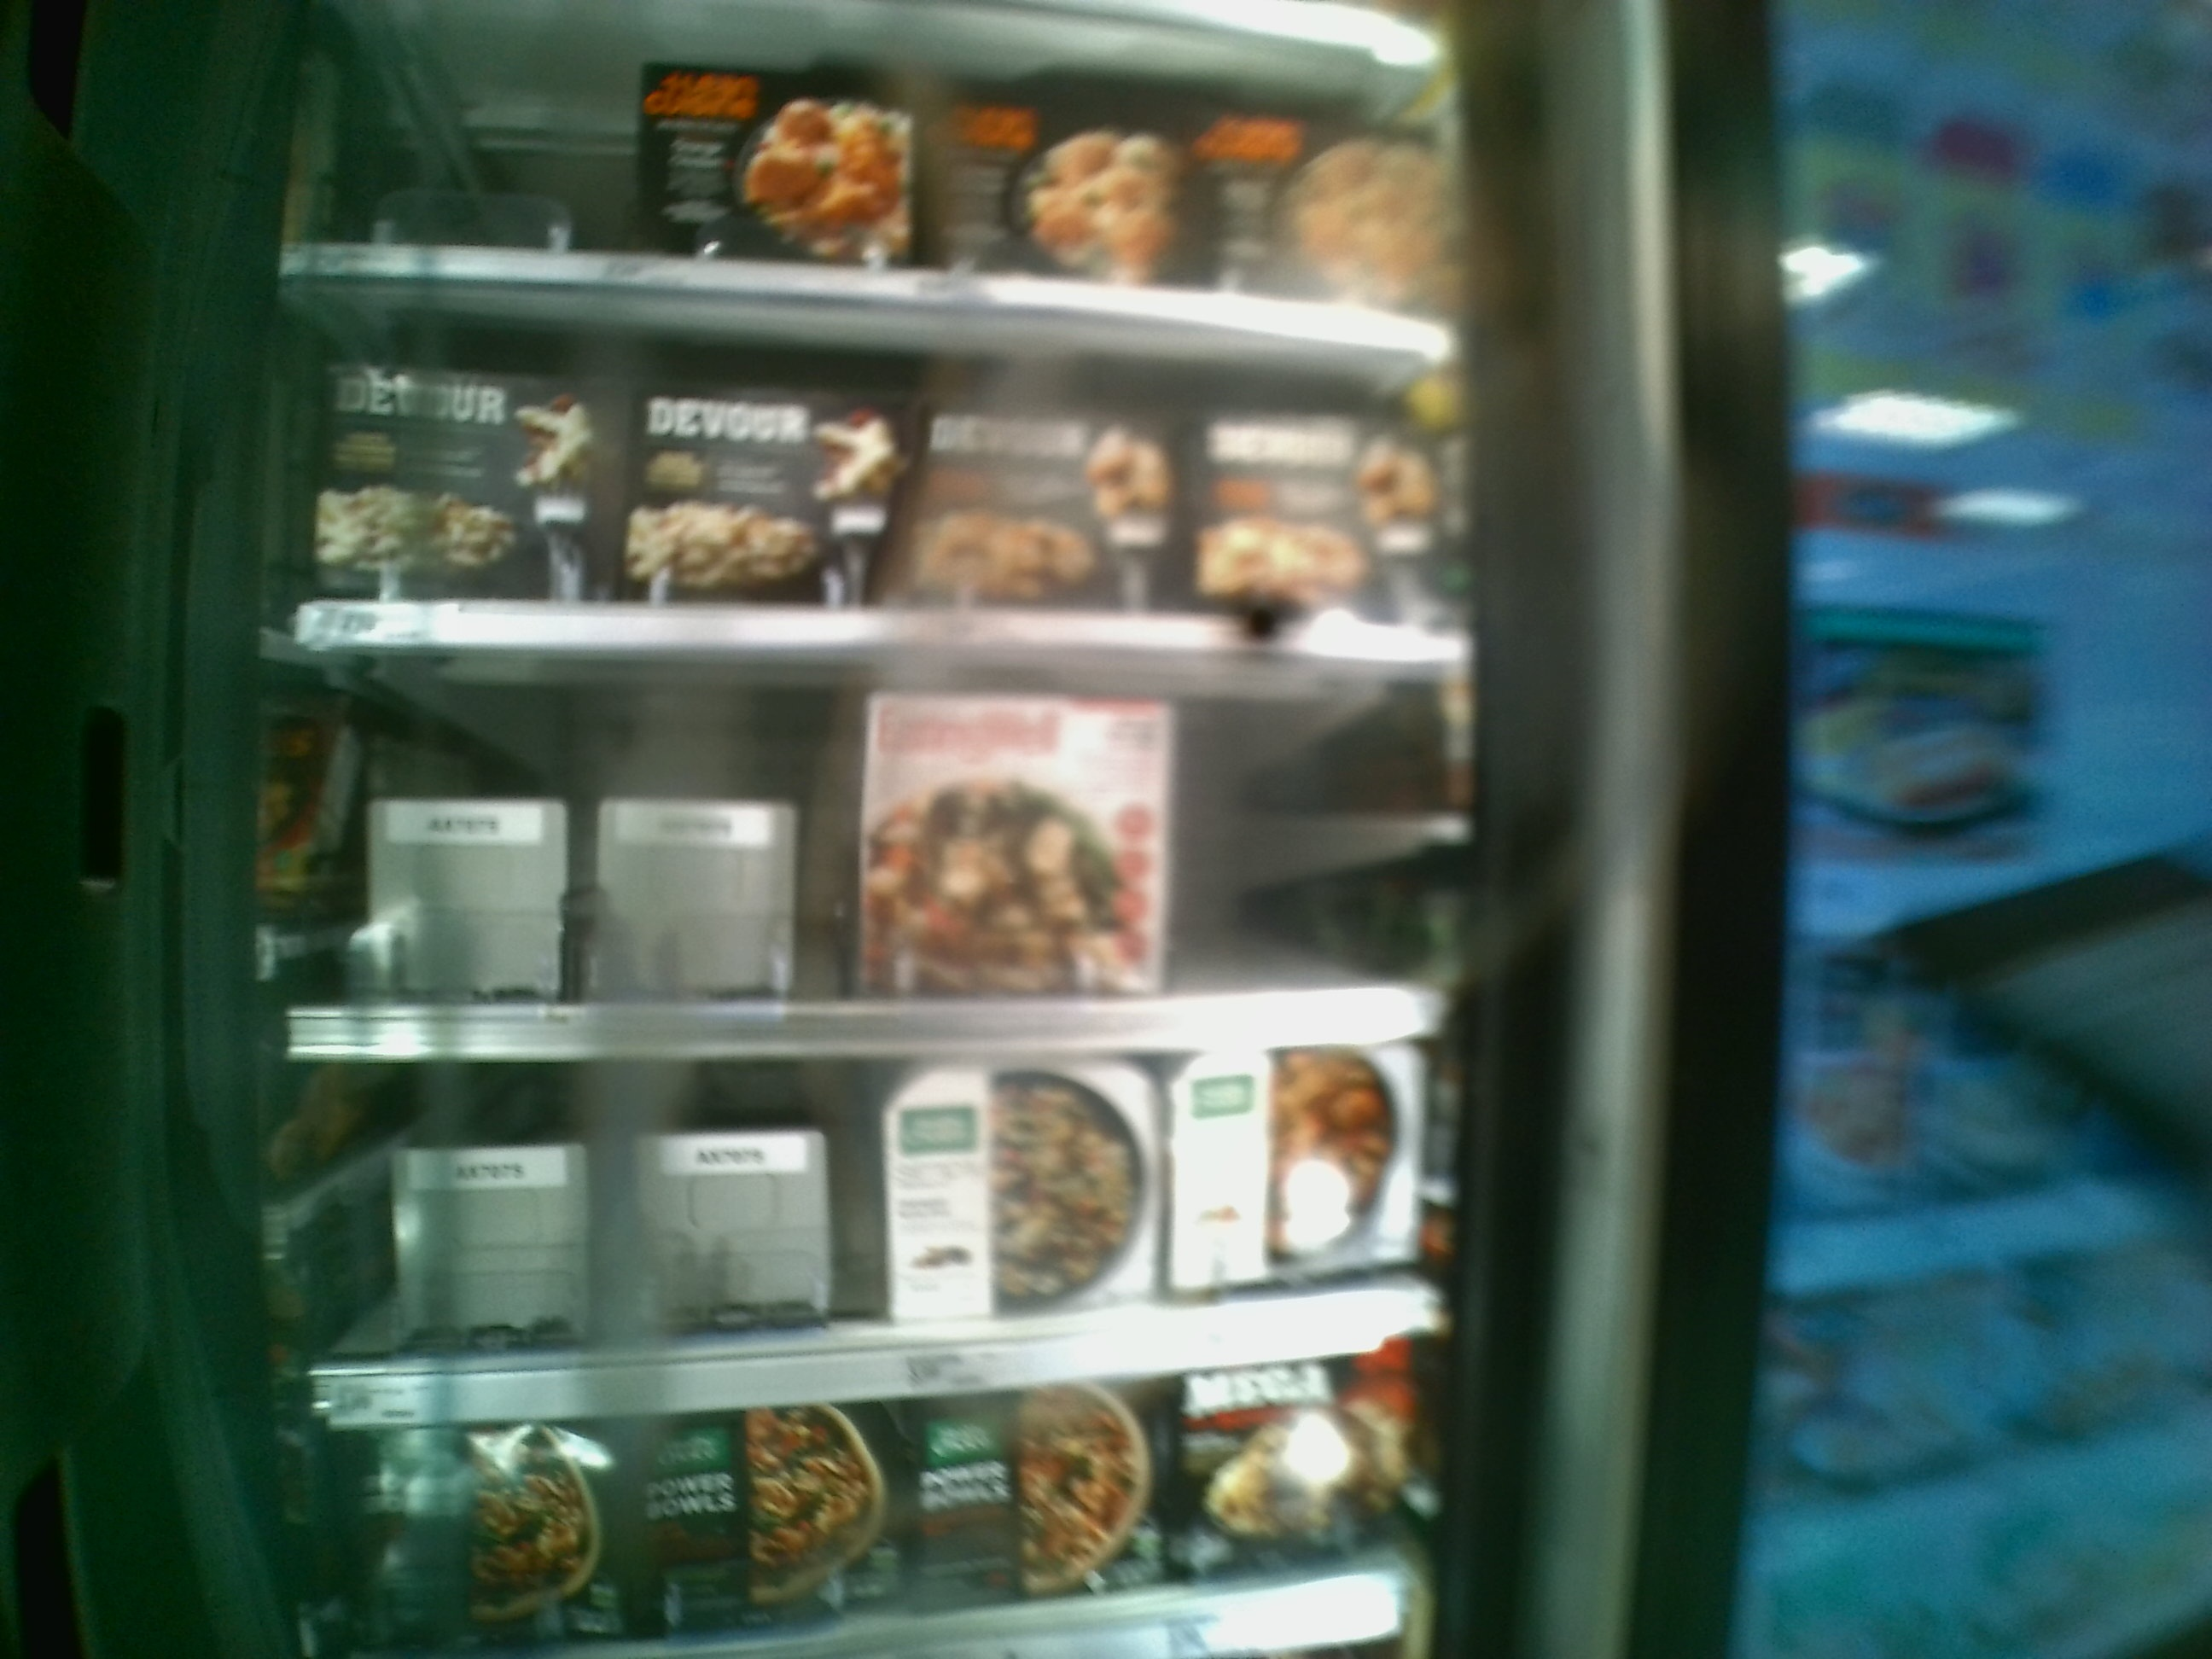Shelf: (275, 647, 1458, 1060), (284, 291, 1475, 673)
